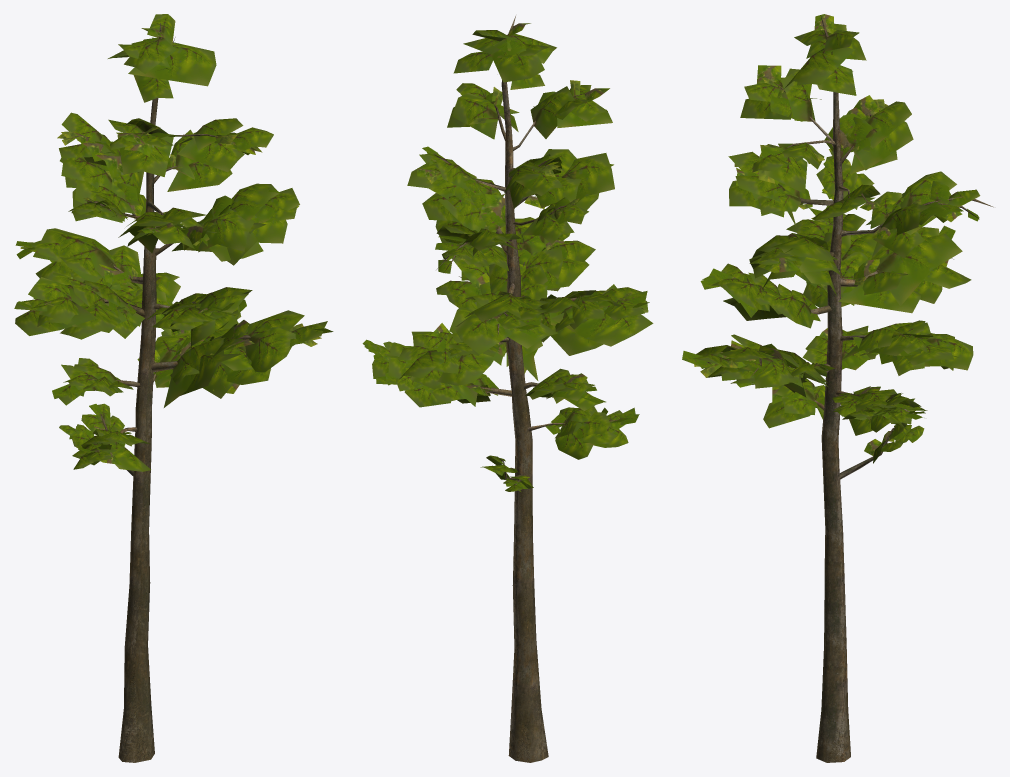
The model's file is sm10_026_tropicalplant01a.fbx.
The picture shows the model from 3 angles, left to right: view 1: azimuth 30°, elevation 25°; view 2: azimuth 150°, elevation 25°; view 3: azimuth 270°, elevation 25°; orthographic projection. The views are drawn at different scales.
Visible parts, largest first — view 1: LOD_1_Group_1_Sub_2__sm10_026_TropicalPlant01A_A_Mat__Env_Al, LOD_1_Group_1_Sub_1__sm10_026_TropicalPlant01A_B_Mat; view 2: LOD_1_Group_1_Sub_2__sm10_026_TropicalPlant01A_A_Mat__Env_Al, LOD_1_Group_1_Sub_1__sm10_026_TropicalPlant01A_B_Mat; view 3: LOD_1_Group_1_Sub_2__sm10_026_TropicalPlant01A_A_Mat__Env_Al, LOD_1_Group_1_Sub_1__sm10_026_TropicalPlant01A_B_Mat.
Part boxes in pixels (x1=…): LOD_1_Group_1_Sub_2__sm10_026_TropicalPlant01A_A_Mat__Env_Al: x1=14, y1=14, x2=333, y2=471; LOD_1_Group_1_Sub_1__sm10_026_TropicalPlant01A_B_Mat: x1=25, y1=23, x2=250, y2=762; LOD_1_Group_1_Sub_2__sm10_026_TropicalPlant01A_A_Mat__Env_Al: x1=362, y1=23, x2=653, y2=491; LOD_1_Group_1_Sub_1__sm10_026_TropicalPlant01A_B_Mat: x1=435, y1=16, x2=643, y2=762; LOD_1_Group_1_Sub_2__sm10_026_TropicalPlant01A_A_Mat__Env_Al: x1=682, y1=14, x2=980, y2=463; LOD_1_Group_1_Sub_1__sm10_026_TropicalPlant01A_B_Mat: x1=707, y1=15, x2=993, y2=762.
Bounding box in the file's own units: 3.38 × 9.23 × 3.5.
